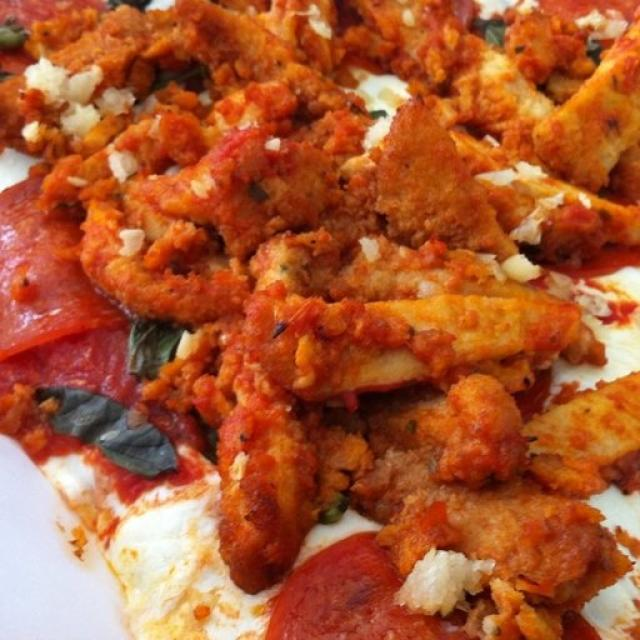Basil: (42, 384, 177, 474), (132, 316, 176, 376), (1, 14, 27, 56), (473, 14, 504, 45)
Chicken: (3, 0, 640, 606)
Pepperoni: (2, 189, 126, 434), (271, 533, 419, 640)
Pizza: (0, 0, 640, 640)
